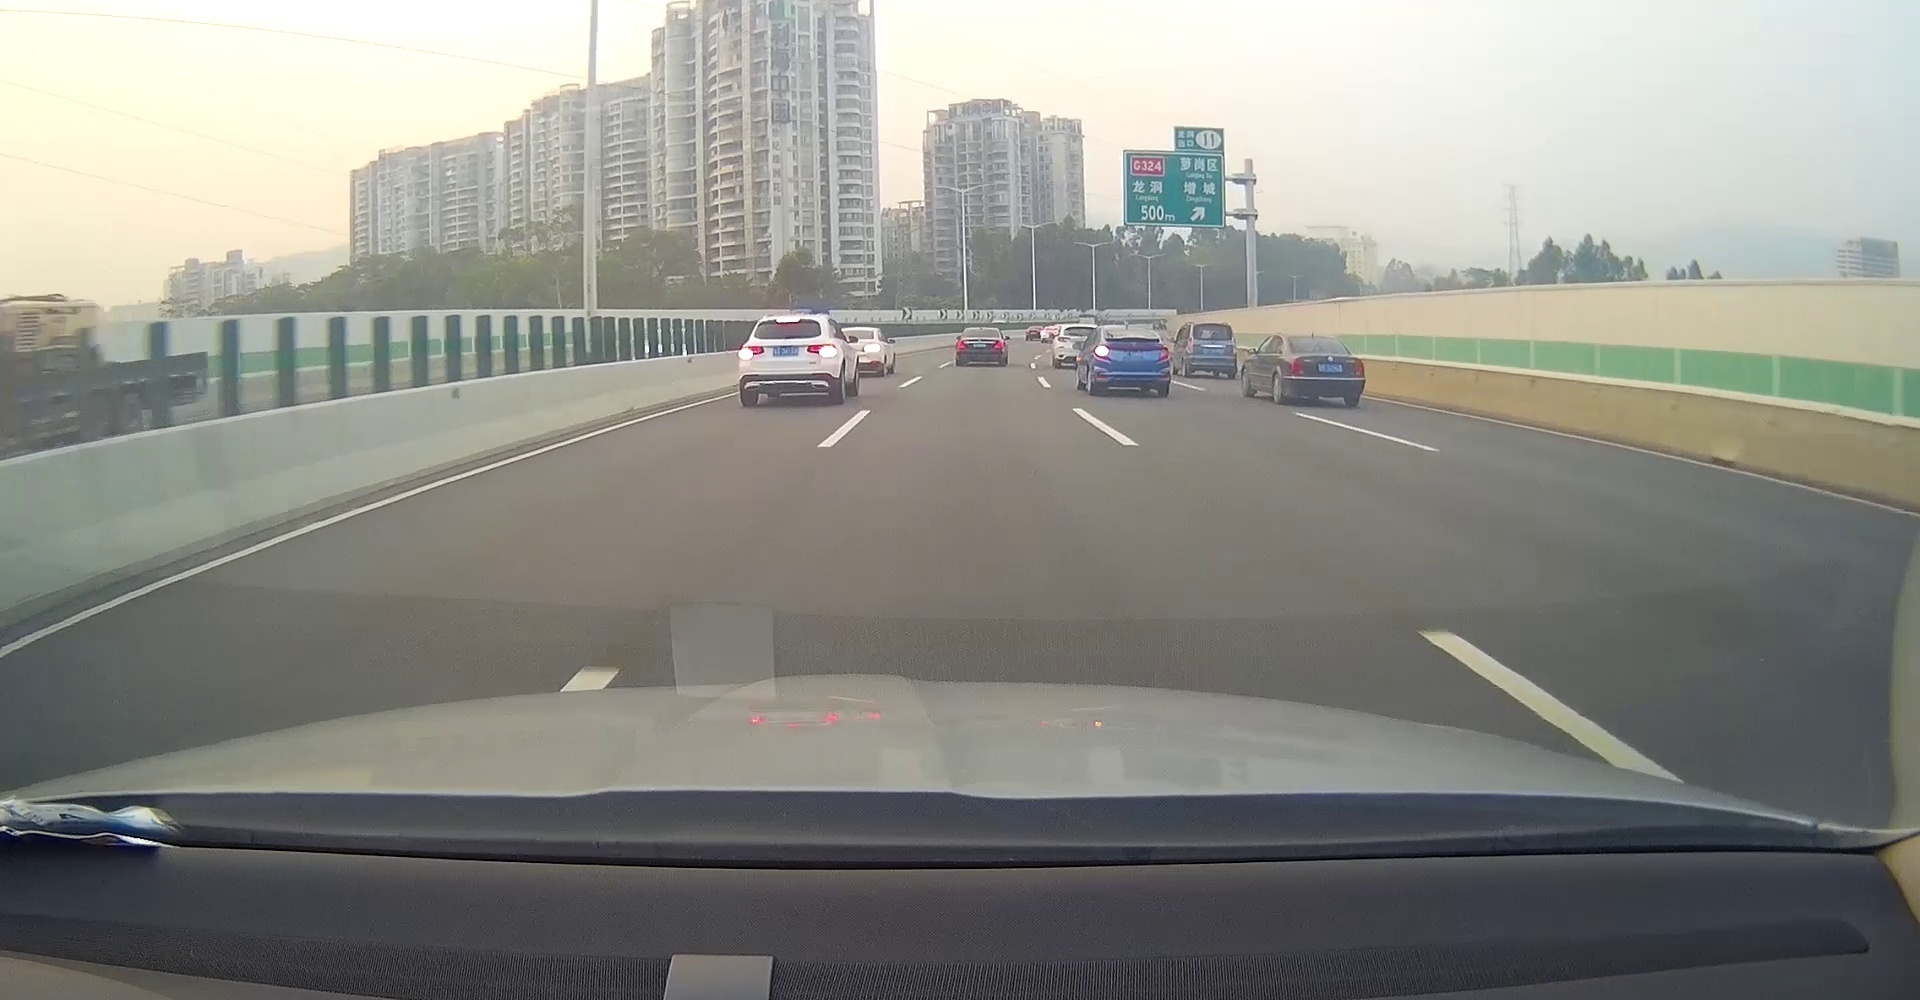L_light: (738, 346, 764, 359), (1093, 345, 1109, 360), (1290, 359, 1304, 376), (957, 341, 968, 349), (1187, 338, 1192, 353)
R_light: (806, 343, 837, 358), (1158, 345, 1171, 360), (1354, 359, 1364, 377), (994, 340, 1004, 349), (1232, 338, 1237, 354)
T_light: (776, 317, 800, 324), (1309, 335, 1319, 339), (1123, 329, 1134, 331), (977, 329, 984, 331), (1209, 324, 1217, 326)
day-brake: (737, 313, 839, 404)
day-left: (1091, 325, 1171, 397)
day-no: (1286, 332, 1366, 409), (1183, 321, 1238, 379), (955, 327, 1006, 367)
